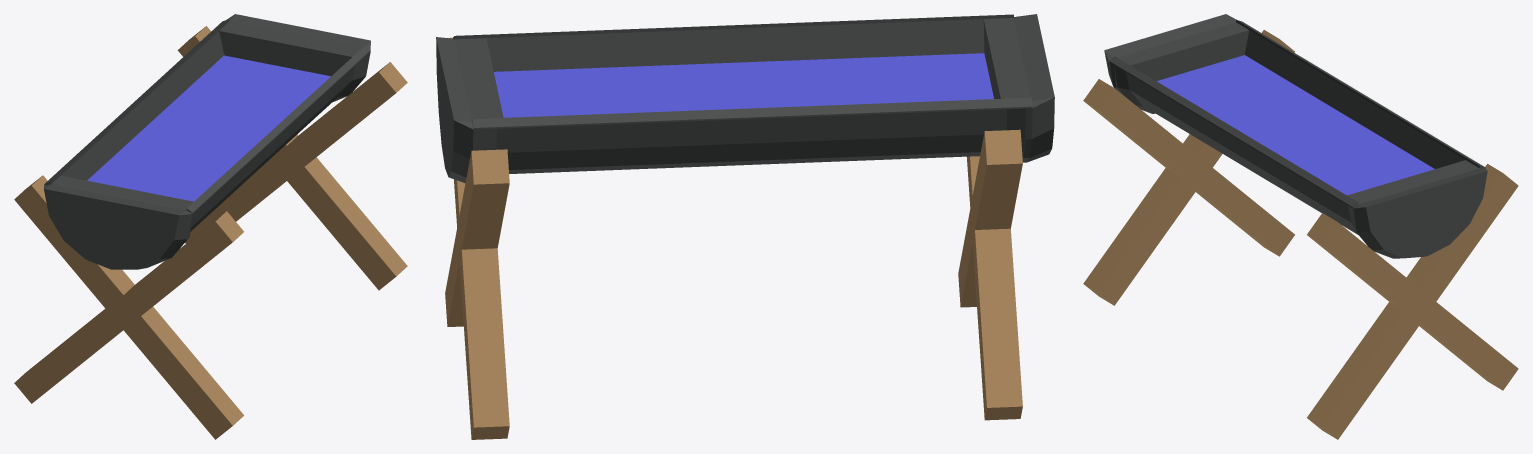
File: cos_dla_konikow 1.fbx
3 renders of one model, left to right at view 1: azimuth 30°, elevation 25°; view 2: azimuth 150°, elevation 25°; view 3: azimuth 270°, elevation 25°, orthographic. The views are drawn at different scales.
Parts seen in each view (by area): view 1: cos dla konikow bez tekstury.001; view 2: cos dla konikow bez tekstury.001; view 3: cos dla konikow bez tekstury.001.
Boxes of the visible parts, box(x1,y1,x2,y2) form: cos dla konikow bez tekstury.001: box(14, 14, 407, 439); cos dla konikow bez tekstury.001: box(436, 14, 1054, 439); cos dla konikow bez tekstury.001: box(1083, 14, 1518, 439).
Bounding box in the file's own units: 6.42 × 3.41 × 5.85.
